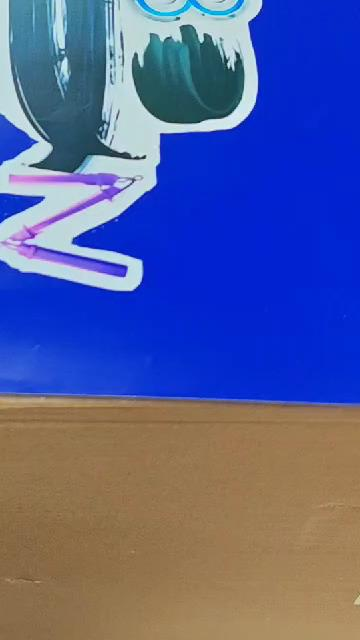B_R1: (0, 0, 310, 313)
